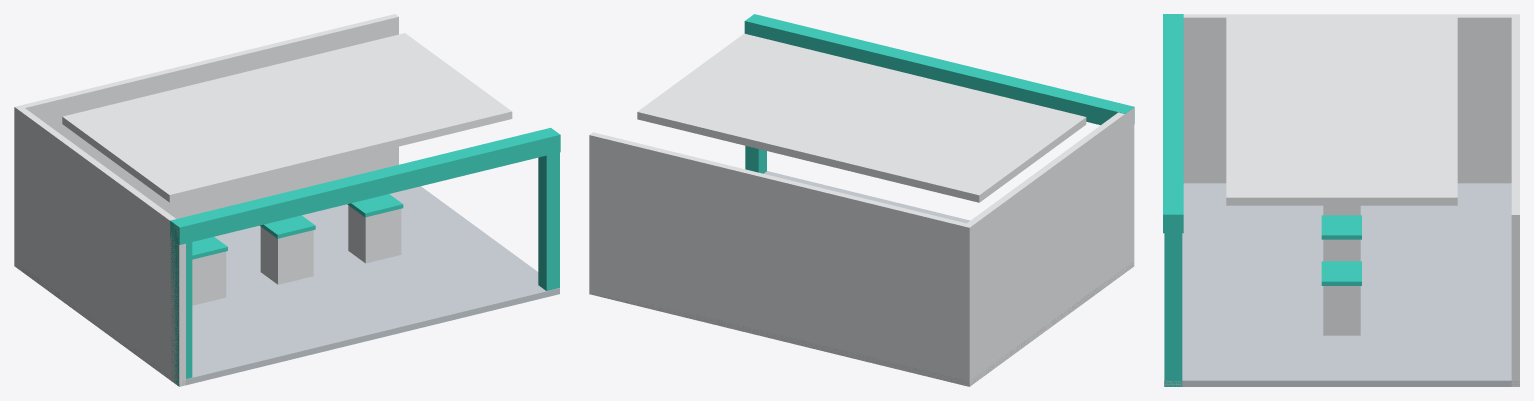
3 views of the same model, side by side, from view 1: azimuth 30°, elevation 25°; view 2: azimuth 150°, elevation 25°; view 3: azimuth 270°, elevation 25° (orthographic). The views are drawn at different scales.
Visible parts, largest first — view 1: Exhibition Booth Concept; view 2: Exhibition Booth Concept; view 3: Exhibition Booth Concept.
Part boxes in pixels (bbox=[...]): Exhibition Booth Concept: bbox=[14, 14, 560, 386]; Exhibition Booth Concept: bbox=[589, 14, 1134, 386]; Exhibition Booth Concept: bbox=[1163, 14, 1519, 386].
Size of the model in its own units: 8 by 3.34 by 6.02.
